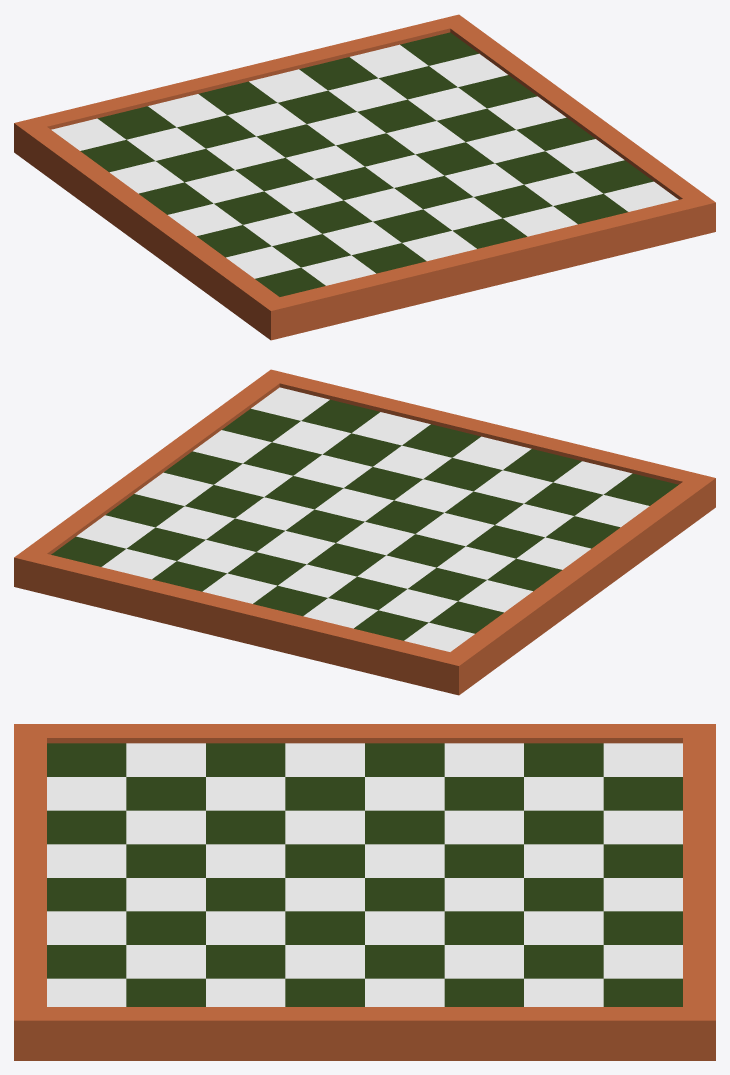
The model's file is Board.fbx.
3 views of the same model, one above another, from view 1: azimuth 30°, elevation 25°; view 2: azimuth 150°, elevation 25°; view 3: azimuth 270°, elevation 25° (orthographic). The views are drawn at different scales.
Visible parts, largest first — view 1: Chess Board; view 2: Chess Board; view 3: Chess Board.
Boxes of the visible parts, x1,y1,x2,y2 form: Chess Board: [14, 14, 715, 340]; Chess Board: [14, 369, 715, 695]; Chess Board: [14, 724, 715, 1060].
Size of the model in its own units: 58.66 by 3.7 by 58.66.
